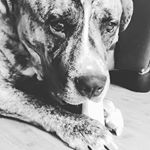puppy: (1, 1, 137, 144)
